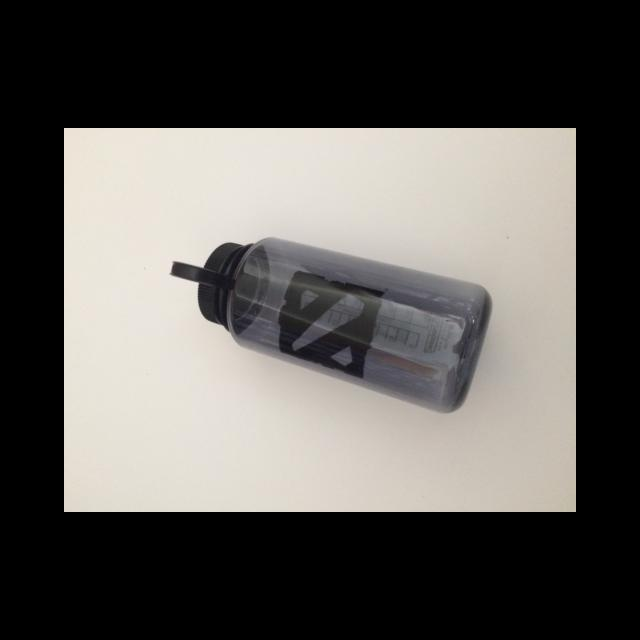plastic: (169, 237, 492, 411), (171, 240, 268, 334)
